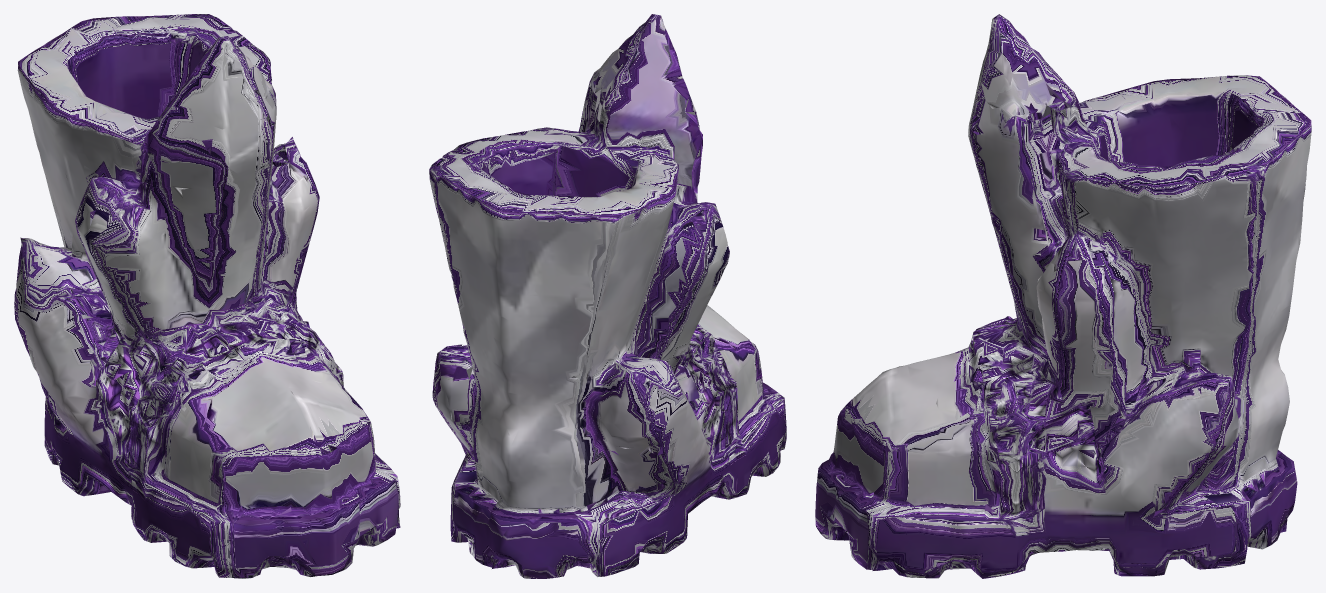
The model's file is amethyst_boot_A.glb.
3 renders of one model, left to right at view 1: azimuth 30°, elevation 25°; view 2: azimuth 150°, elevation 25°; view 3: azimuth 270°, elevation 25°, orthographic. The views are drawn at different scales.
Bounding box in the file's own units: 0.1729 × 0.3314 × 0.294.
1 material, 1 textured.
